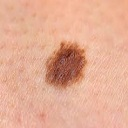Melanoma: (41, 38, 93, 91)
